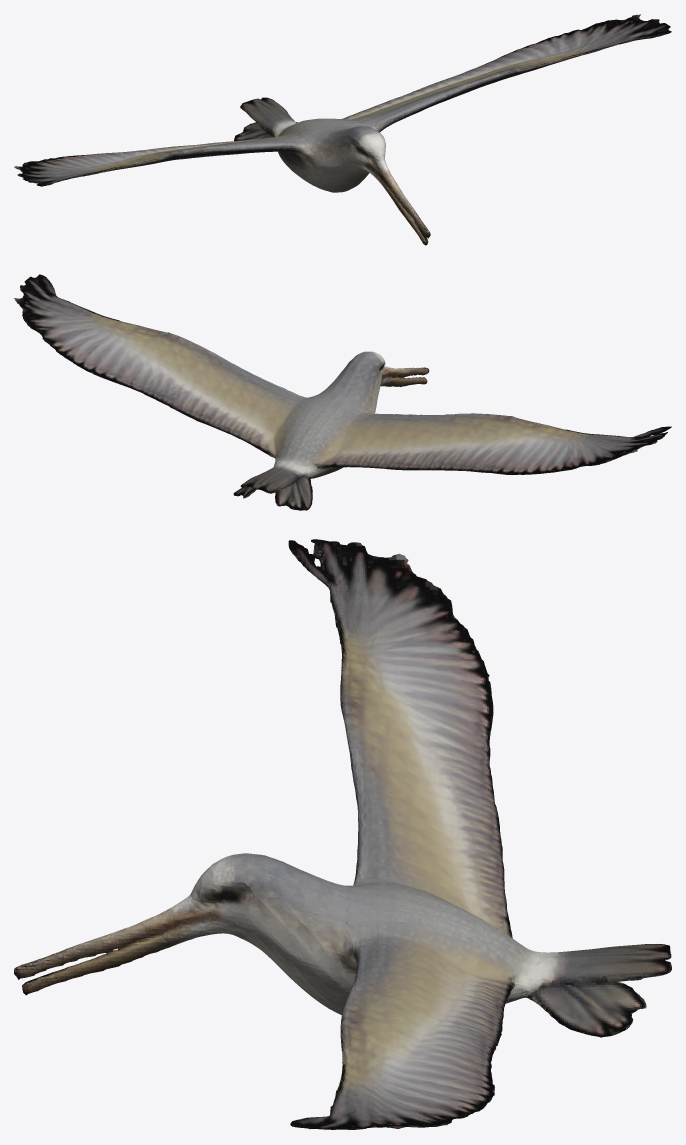
The picture shows the model from 3 angles, top to bottom: view 1: azimuth 30°, elevation 25°; view 2: azimuth 150°, elevation 25°; view 3: azimuth 270°, elevation 25°; orthographic projection. The views are drawn at different scales.
Parts seen in each view (by area): view 1: world; view 2: world; view 3: world.
Boxes of the visible parts, x1,y1,x2,y2 form: world: [14, 14, 671, 245]; world: [14, 274, 671, 510]; world: [14, 539, 671, 1129].
Size of the model in its own units: 6.4 by 0.9094 by 3.02.
Materials: 1 (1 with a texture image).
